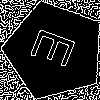E: (29, 26, 86, 74)
